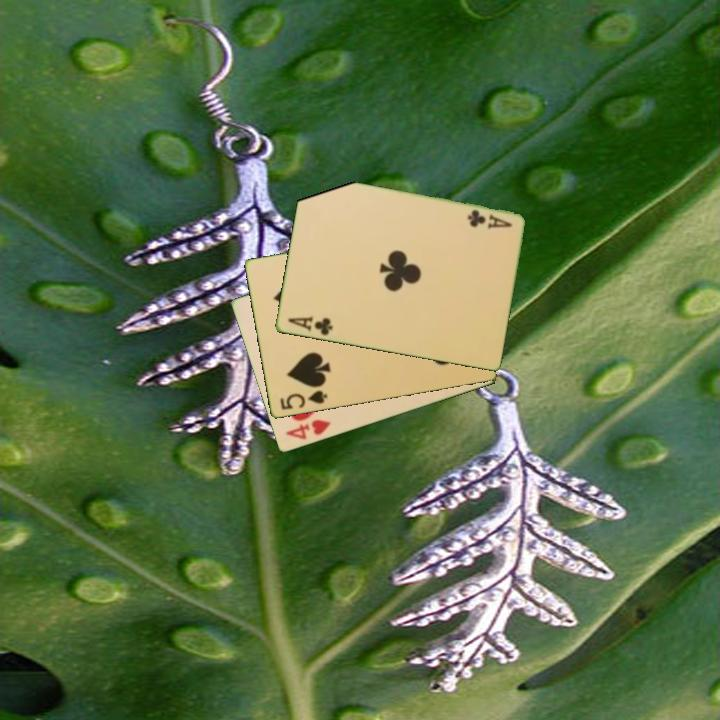4h: (282, 416, 334, 443)
5s: (276, 387, 330, 413)
Ac: (284, 313, 335, 339), (464, 206, 515, 232)
